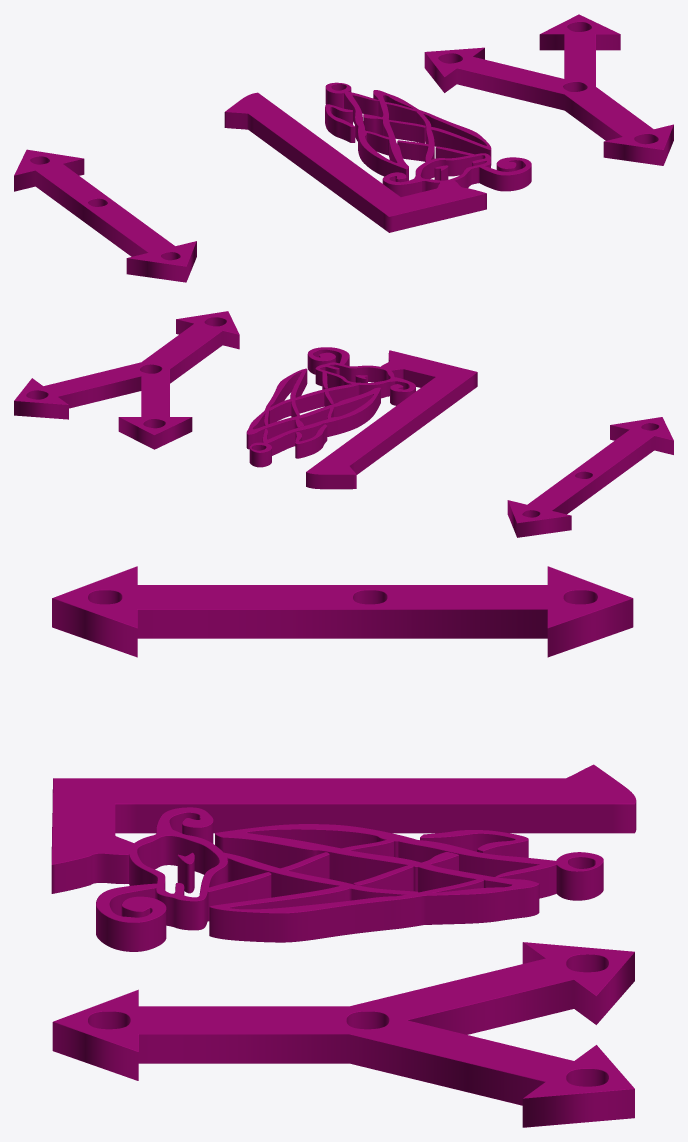
3 views of the same model, one above another, from view 1: azimuth 30°, elevation 25°; view 2: azimuth 150°, elevation 25°; view 3: azimuth 270°, elevation 25° (orthographic). The views are drawn at different scales.
Visible parts, largest first — view 1: Text_CUText; view 2: Text_CUText; view 3: Text_CUText.
Boxes of the visible parts, bbox=[...] form: Text_CUText: bbox=[14, 14, 673, 282]; Text_CUText: bbox=[14, 311, 673, 537]; Text_CUText: bbox=[51, 566, 636, 1127].
Bounding box in the file's own units: 3.47 × 0.09 × 1.61.
